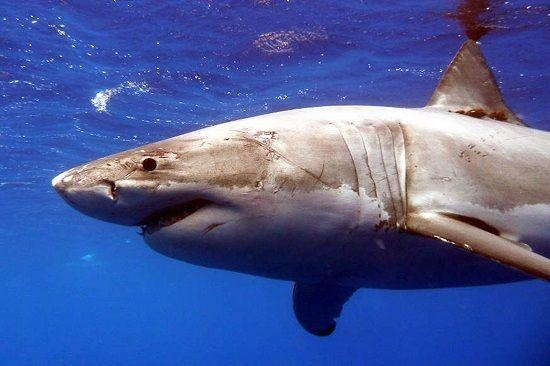fish: (50, 41, 543, 336)
